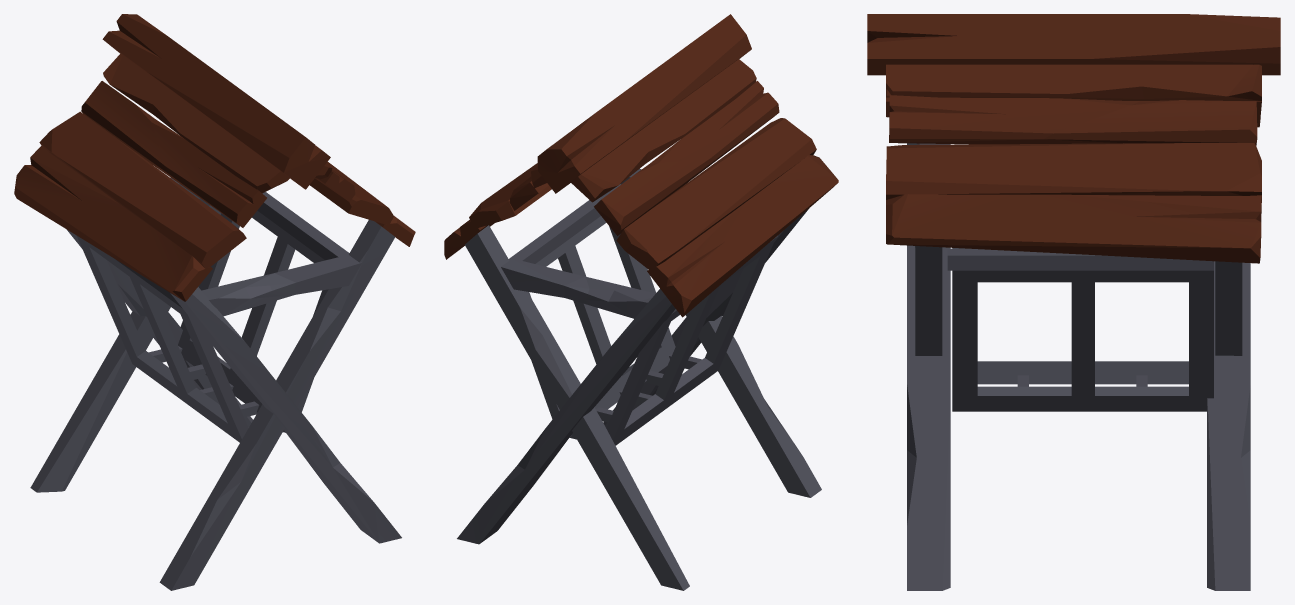
Rendered from Feeder_1.fbx.
3 renders of one model, left to right at view 1: azimuth 30°, elevation 25°; view 2: azimuth 150°, elevation 25°; view 3: azimuth 270°, elevation 25°, orthographic. The views are drawn at different scales.
Parts seen in each view (by area): view 1: Feeder_1; view 2: Feeder_1; view 3: Feeder_1.
Part boxes in pixels (box(x1,y1,x2,y2)): Feeder_1: box(14, 14, 415, 590); Feeder_1: box(444, 14, 838, 590); Feeder_1: box(867, 14, 1280, 590).
Size of the model in its own units: 34.8 by 58.29 by 42.63.
